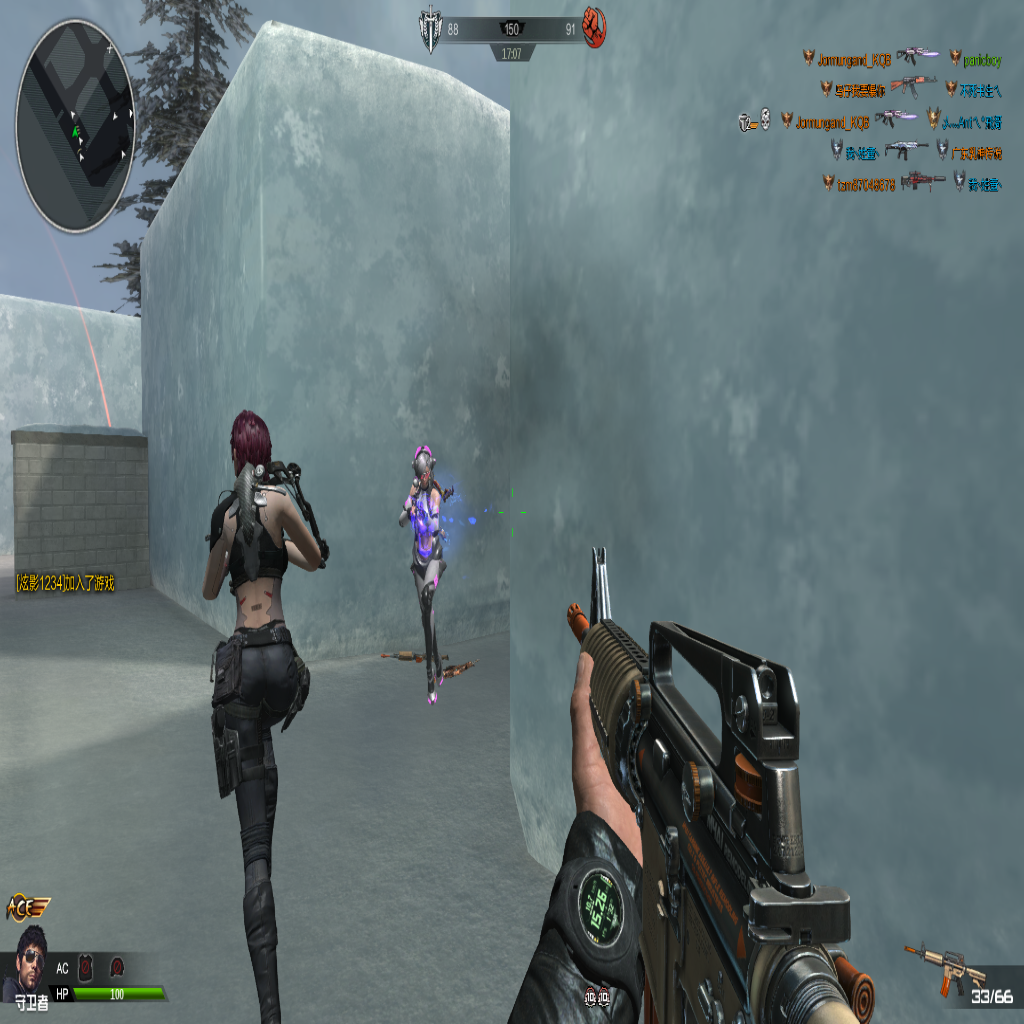tt: (402, 448, 449, 699)
